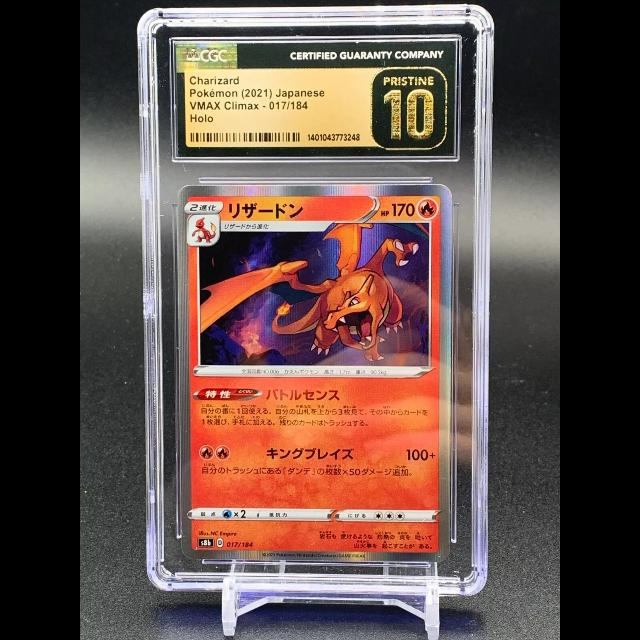card: (178, 184, 453, 563)
cgc_label: (174, 40, 457, 158)
cgc_slab: (137, 4, 495, 598)
